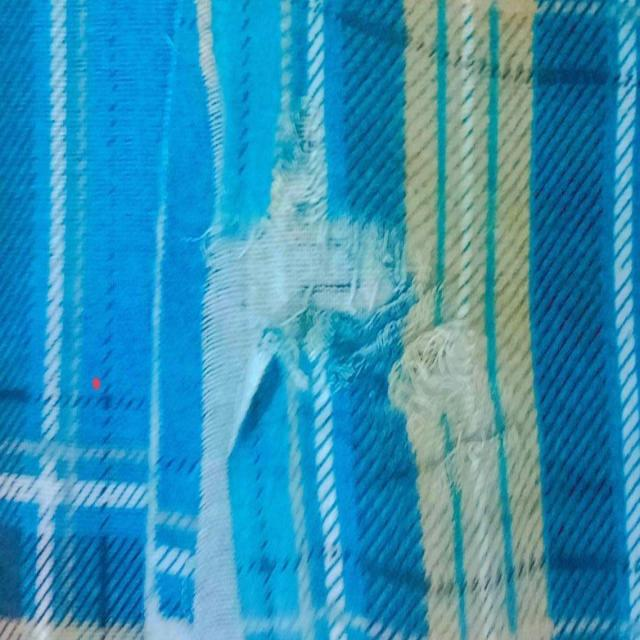cut: (233, 121, 396, 355)
